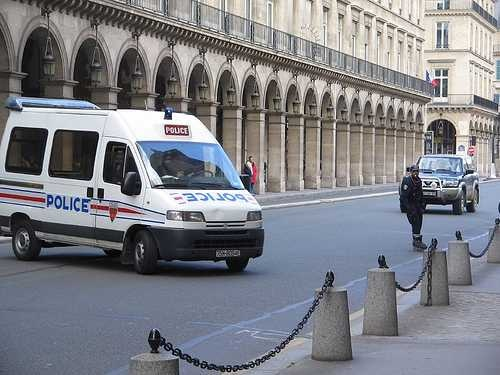Police Van: (4, 85, 273, 274)
